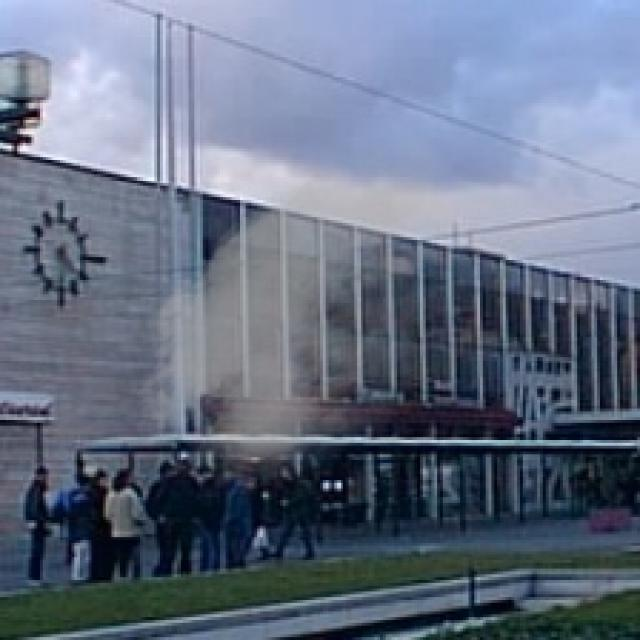smoke: (123, 126, 520, 503)
